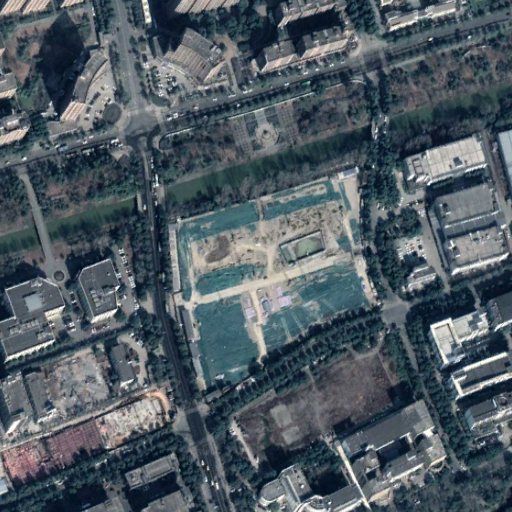cw: (175, 179, 371, 398)
